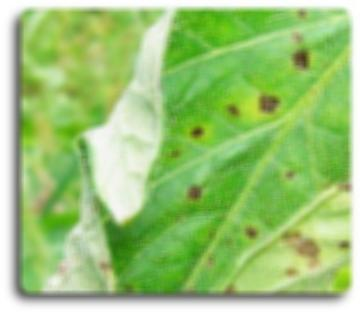Tomato Septoria leaf spot: (86, 10, 345, 286)
